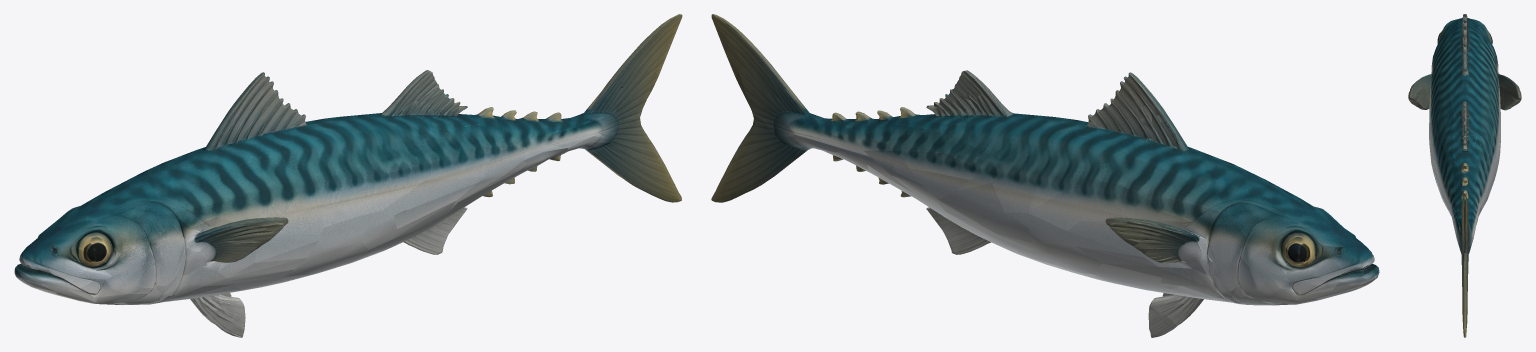
Rendered from fishMackerel.glb.
3 views of the same model, side by side, from view 1: azimuth 30°, elevation 25°; view 2: azimuth 150°, elevation 25°; view 3: azimuth 270°, elevation 25° (orthographic). The views are drawn at different scales.
Visible parts, largest first — view 1: Mesh_0; view 2: Mesh_0; view 3: Mesh_0.
Boxes of the visible parts, x1,y1,x2,y2 form: Mesh_0: [14, 14, 682, 337]; Mesh_0: [711, 14, 1379, 337]; Mesh_0: [1408, 14, 1521, 337].
Bounding box in the file's own units: 0.3009 × 0.11 × 0.0595.
1 material, 1 textured.
